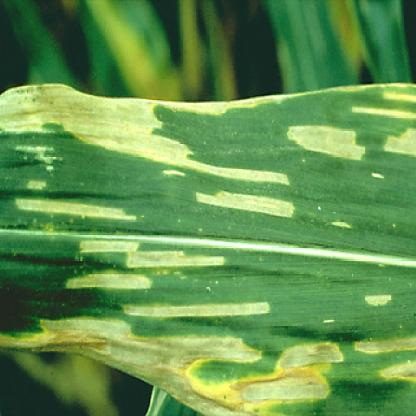Corn Gray leaf spot: (4, 67, 416, 410)
